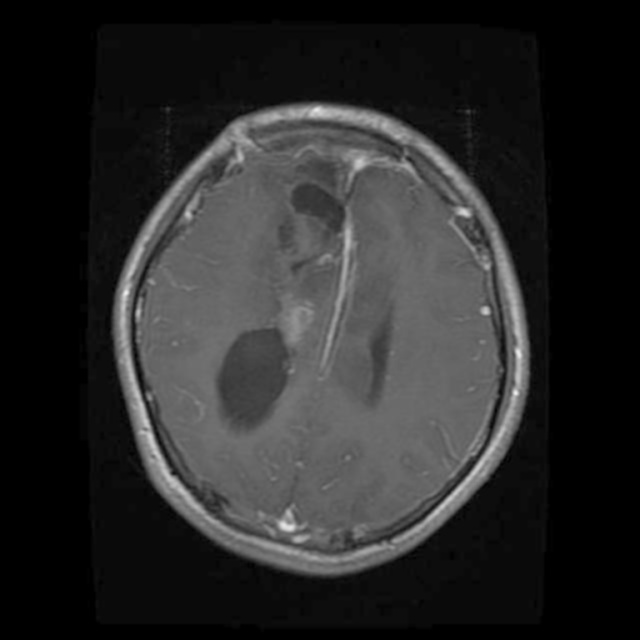pituitary tumor: (268, 290, 320, 346)
